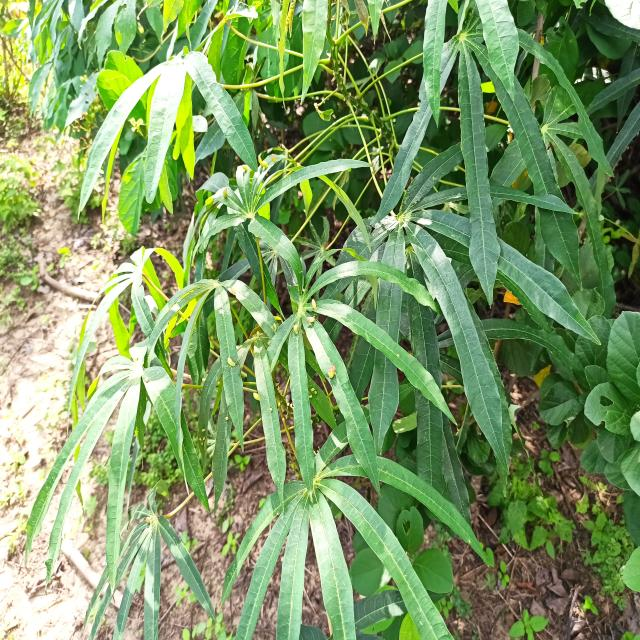Maleza: (597, 312, 640, 523)
Mosca: (307, 292, 319, 329), (255, 155, 281, 172), (321, 361, 338, 385), (285, 315, 299, 338), (226, 349, 239, 367), (211, 304, 231, 315), (220, 184, 228, 207), (223, 411, 235, 425), (239, 161, 251, 175)
